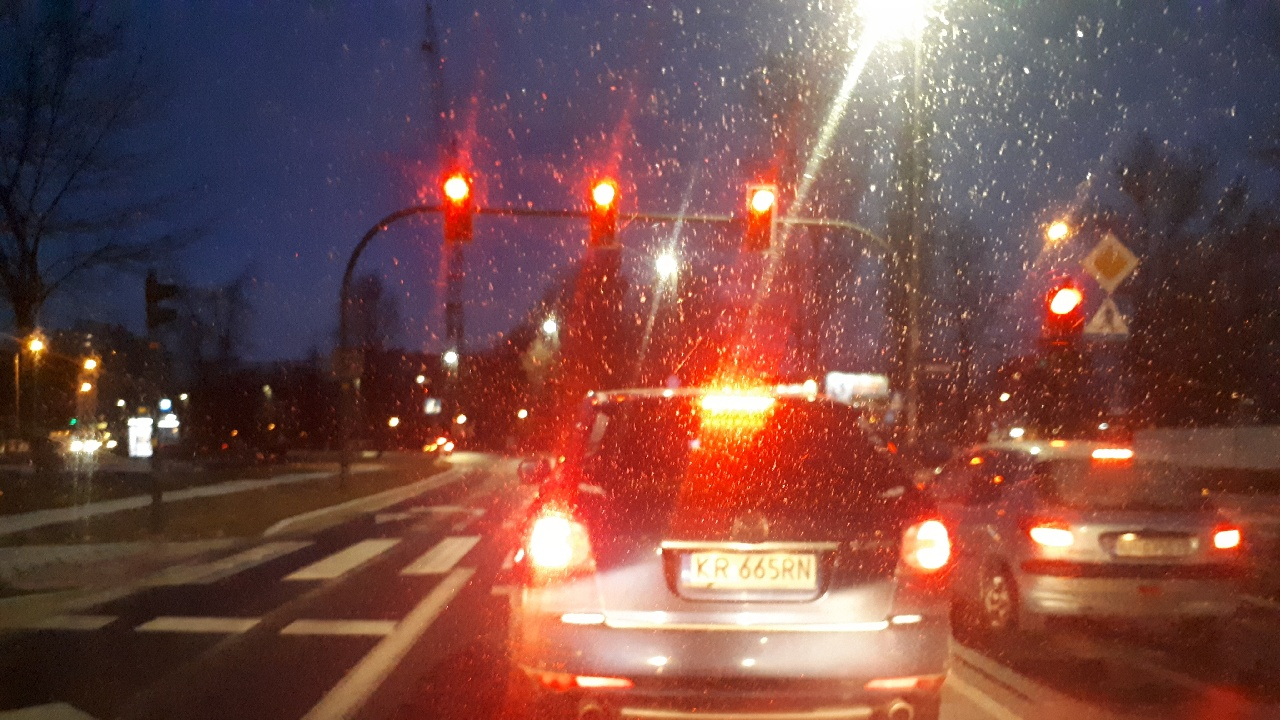D1: (1083, 233, 1141, 294)
Red: (592, 184, 615, 242), (446, 174, 467, 237), (752, 187, 771, 247)
